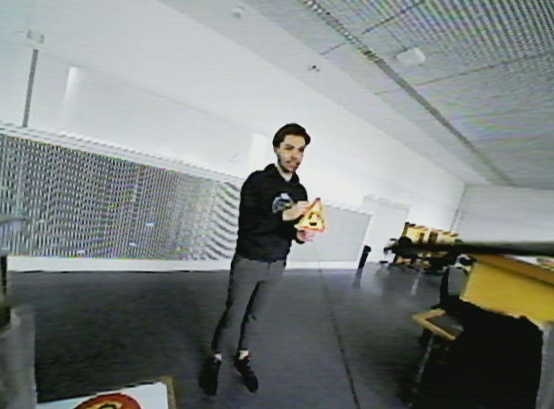roundabout_warning: (294, 194, 326, 237)
